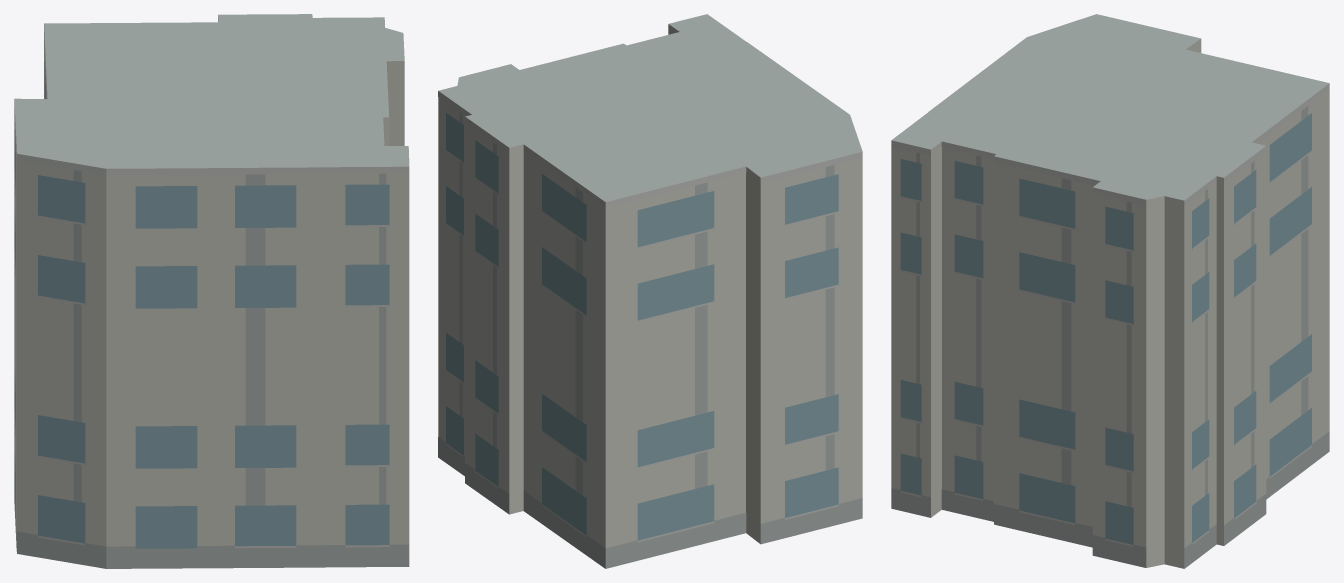
The model's file is survey-upis-32904917.glb.
The picture shows the model from 3 angles, left to right: view 1: azimuth 30°, elevation 25°; view 2: azimuth 150°, elevation 25°; view 3: azimuth 270°, elevation 25°; orthographic projection. The views are drawn at different scales.
Parts seen in each view (by area): view 1: survey-upis-32904917.tmp; view 2: survey-upis-32904917.tmp; view 3: survey-upis-32904917.tmp.
Part boxes in pixels (left/top/right/bottom): survey-upis-32904917.tmp: left=14, top=14, right=409, bottom=568; survey-upis-32904917.tmp: left=438, top=14, right=862, bottom=568; survey-upis-32904917.tmp: left=891, top=14, right=1329, bottom=568.
Size of the model in its own units: 15.91 by 14.63 by 15.79.
